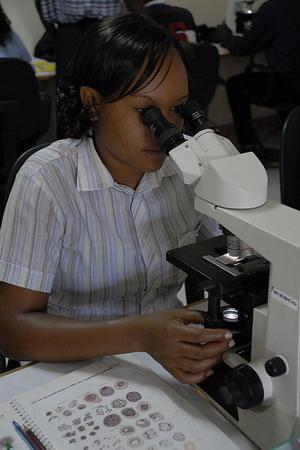person: (2, 14, 236, 390)
